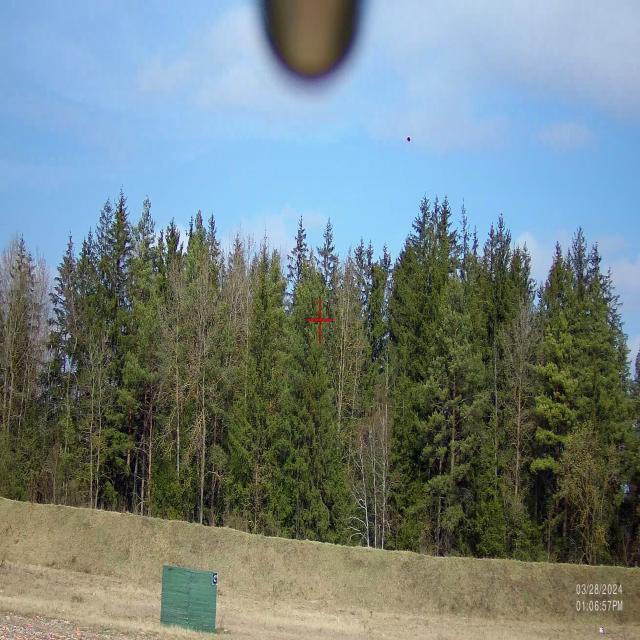entire: (403, 125, 416, 146)
